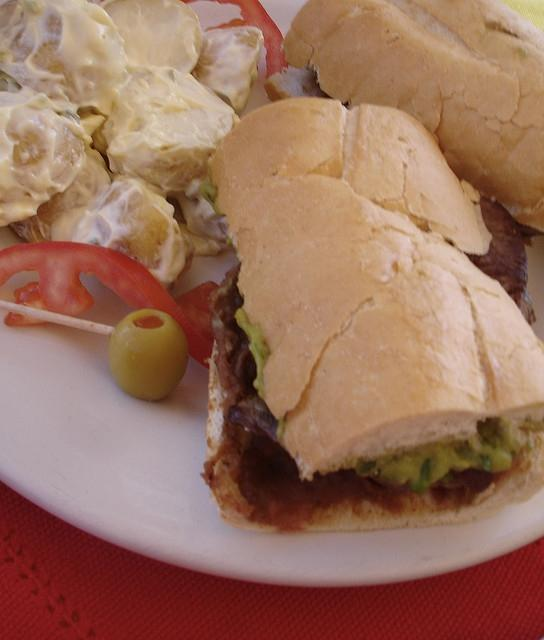potato: (93, 64, 241, 195), (0, 0, 128, 116), (0, 86, 87, 226), (8, 140, 114, 243), (100, 184, 186, 294), (96, 0, 203, 74), (191, 26, 265, 118), (167, 190, 227, 242)
tomato: (0, 242, 219, 370), (181, 0, 289, 80)
